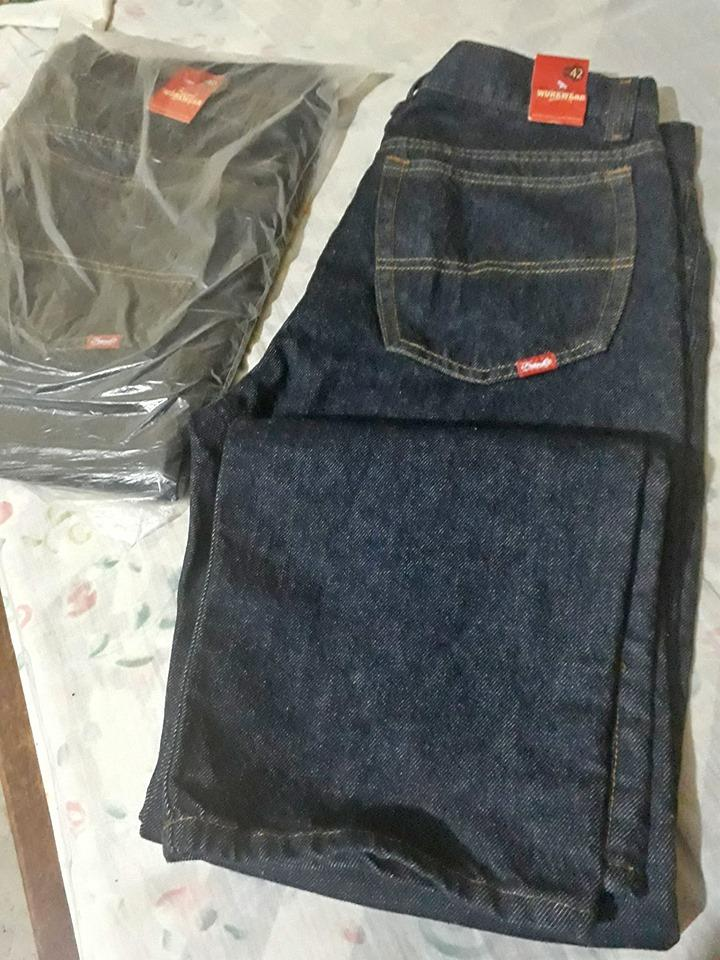Jeans: (127, 25, 720, 960)
